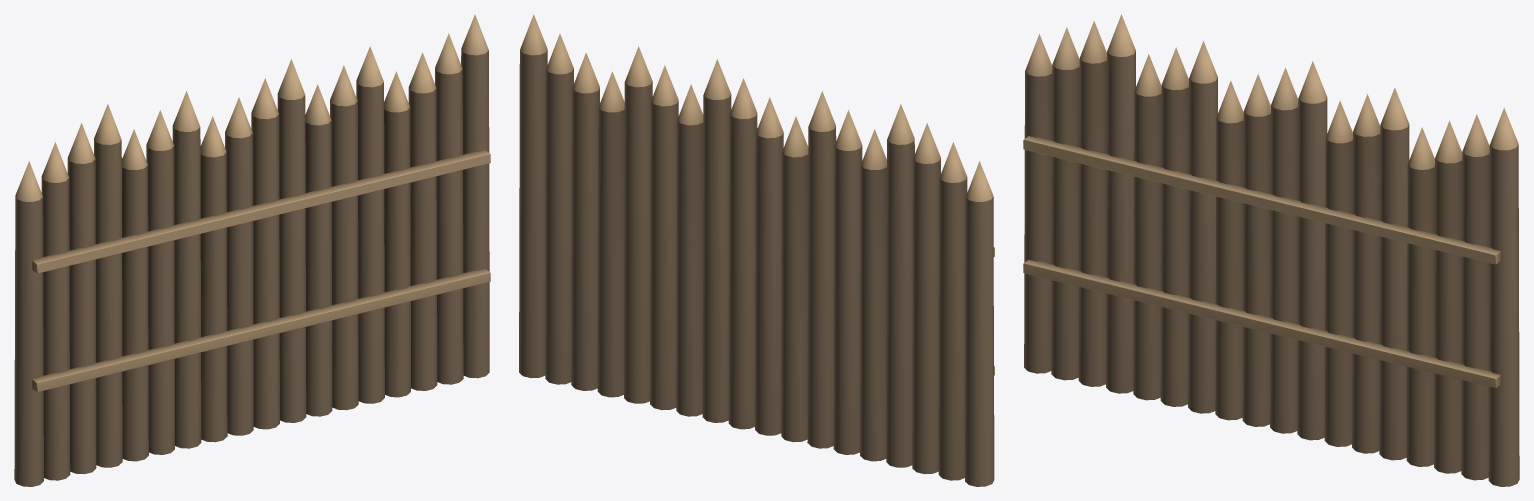
The model's file is dh_palisade.glb.
3 views of the same model, side by side, from view 1: azimuth 30°, elevation 25°; view 2: azimuth 150°, elevation 25°; view 3: azimuth 330°, elevation 25° (orthographic). The views are drawn at different scales.
Visible parts, largest first — view 1: dh_palisade; view 2: dh_palisade; view 3: dh_palisade.
Boxes of the visible parts, x1,y1,x2,y2 form: dh_palisade: [14, 14, 490, 486]; dh_palisade: [519, 14, 994, 486]; dh_palisade: [1023, 14, 1519, 486].
Size of the model in its own units: 6.24 by 4.53 by 0.4317.
